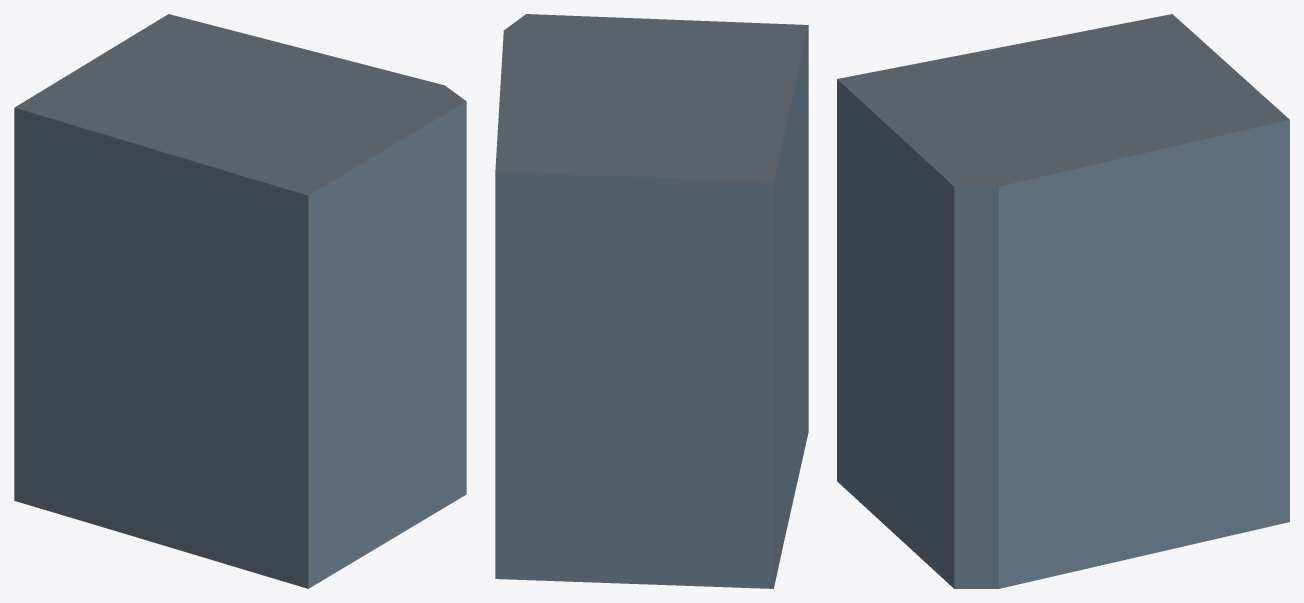
The picture shows the model from 3 angles, left to right: view 1: azimuth 30°, elevation 25°; view 2: azimuth 150°, elevation 25°; view 3: azimuth 270°, elevation 25°; orthographic projection. The views are drawn at different scales.
Parts seen in each view (by area): view 1: HP-w160821058; view 2: HP-w160821058; view 3: HP-w160821058.
Boxes of the visible parts, x1=… form: HP-w160821058: x1=14, y1=14, x2=466, y2=588; HP-w160821058: x1=495, y1=14, x2=808, y2=588; HP-w160821058: x1=837, y1=14, x2=1289, y2=588.
Bounding box in the file's own units: 34.97 × 38 × 38.76.
